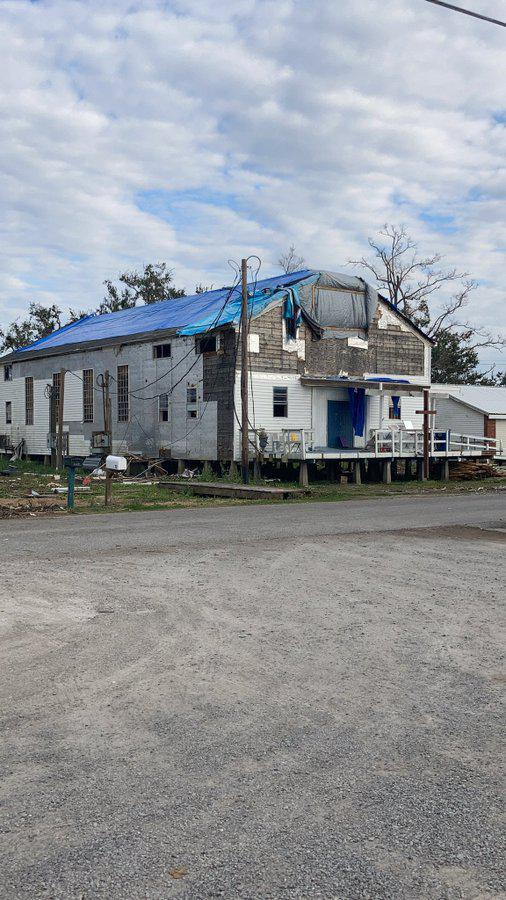minor: (18, 272, 505, 475)
